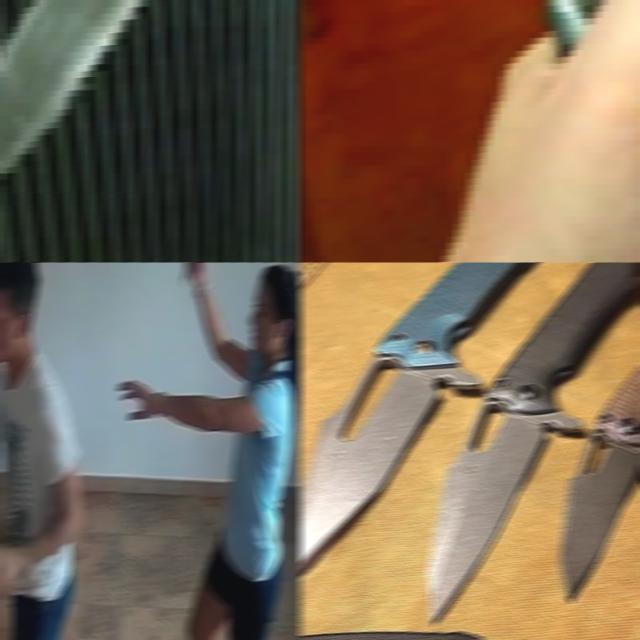Knife: (0, 0, 302, 231)
Knife_Handle: (430, 0, 640, 262), (180, 262, 206, 288), (180, 262, 206, 284)
